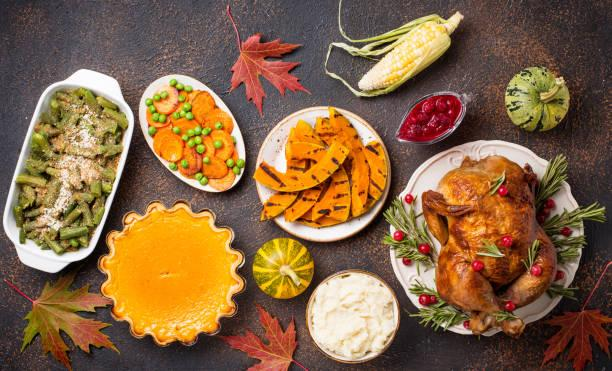Braised Crucian Carp: (389, 140, 580, 336), (3, 65, 133, 265), (98, 203, 245, 345), (254, 105, 387, 240), (139, 76, 246, 192), (304, 269, 399, 365)
